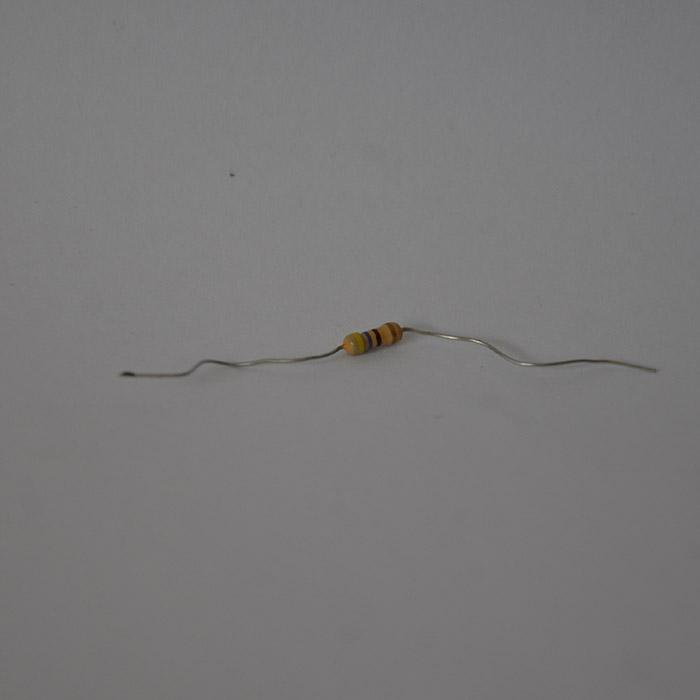resistor: (340, 321, 400, 355)
